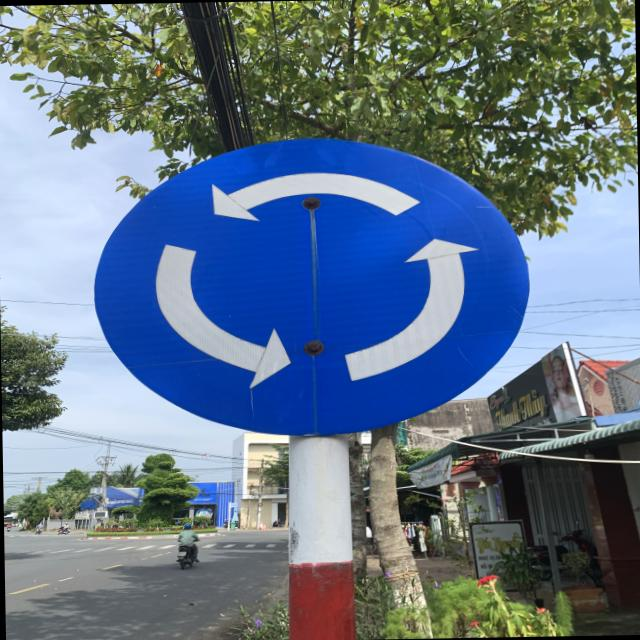Xe_Bus: (90, 129, 536, 439)
